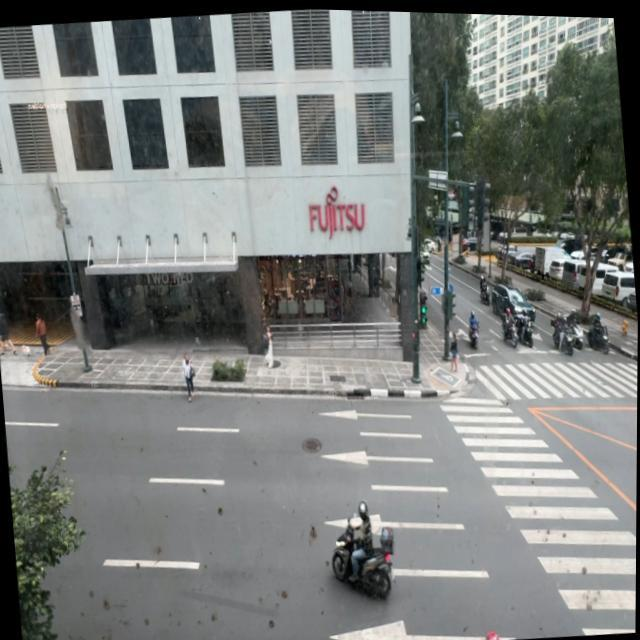jaywalking: (182, 352, 198, 402)
